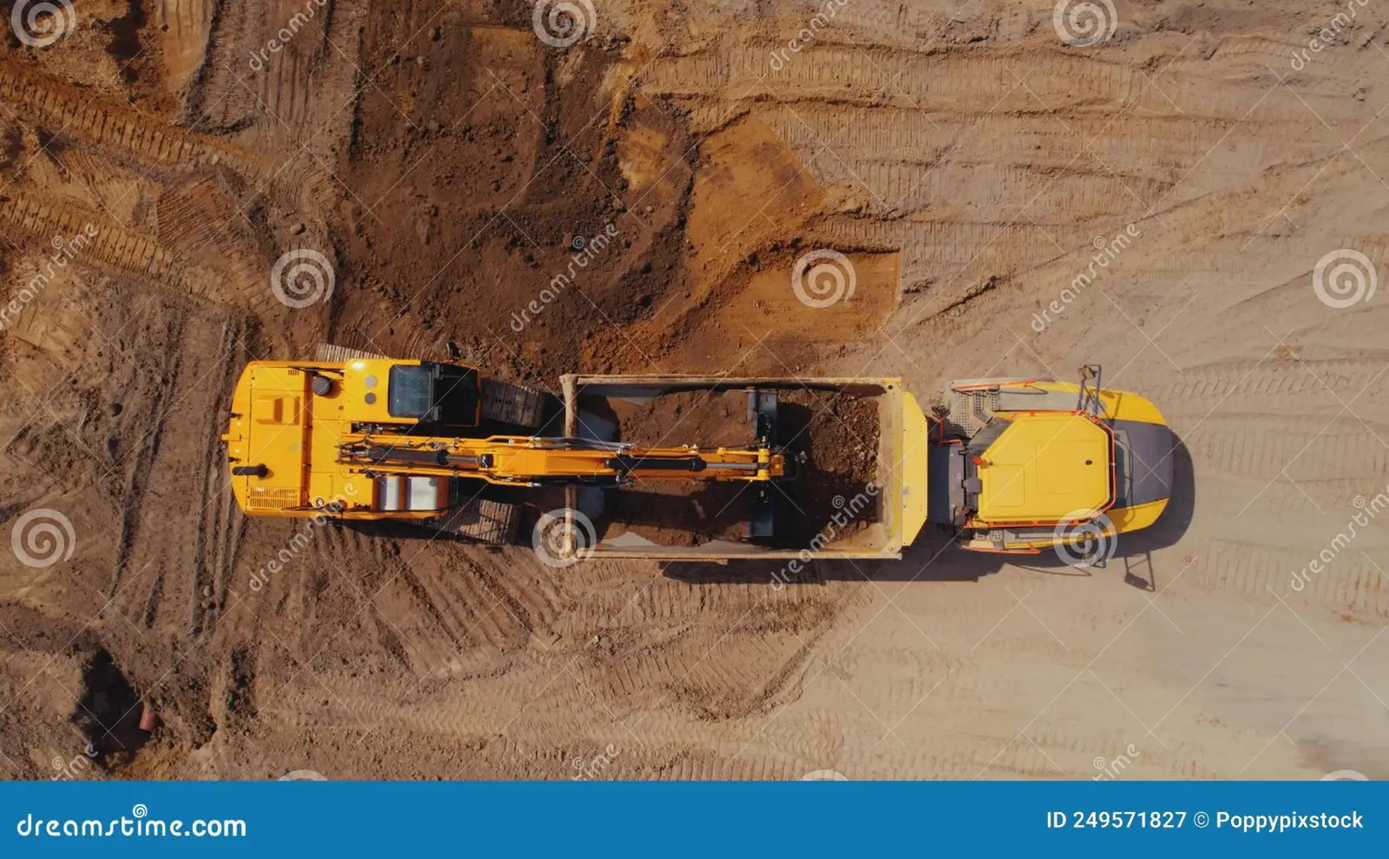excavator: (224, 347, 556, 577)
truck: (640, 349, 1170, 696)
